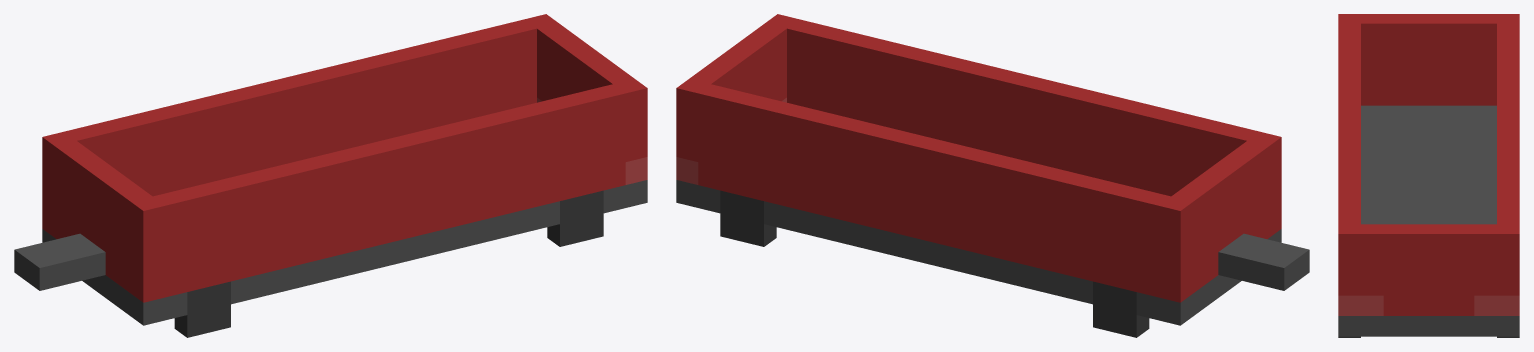
The model's file is tractor-trailer-v1-red.gltf.
The picture shows the model from 3 angles, left to right: view 1: azimuth 30°, elevation 25°; view 2: azimuth 150°, elevation 25°; view 3: azimuth 270°, elevation 25°; orthographic projection. The views are drawn at different scales.
Visible parts, largest first — view 1: model, wheels; view 2: model, wheels; view 3: model.
Boxes of the visible parts, bbox=[...] form: model: bbox=[14, 14, 647, 337]; wheels: bbox=[174, 191, 603, 336]; model: bbox=[676, 14, 1309, 337]; wheels: bbox=[720, 192, 1149, 336]; model: bbox=[1338, 14, 1519, 337].
Size of the model in its own units: 2.6 by 0.6 by 0.8.
2 materials, 2 textured.
